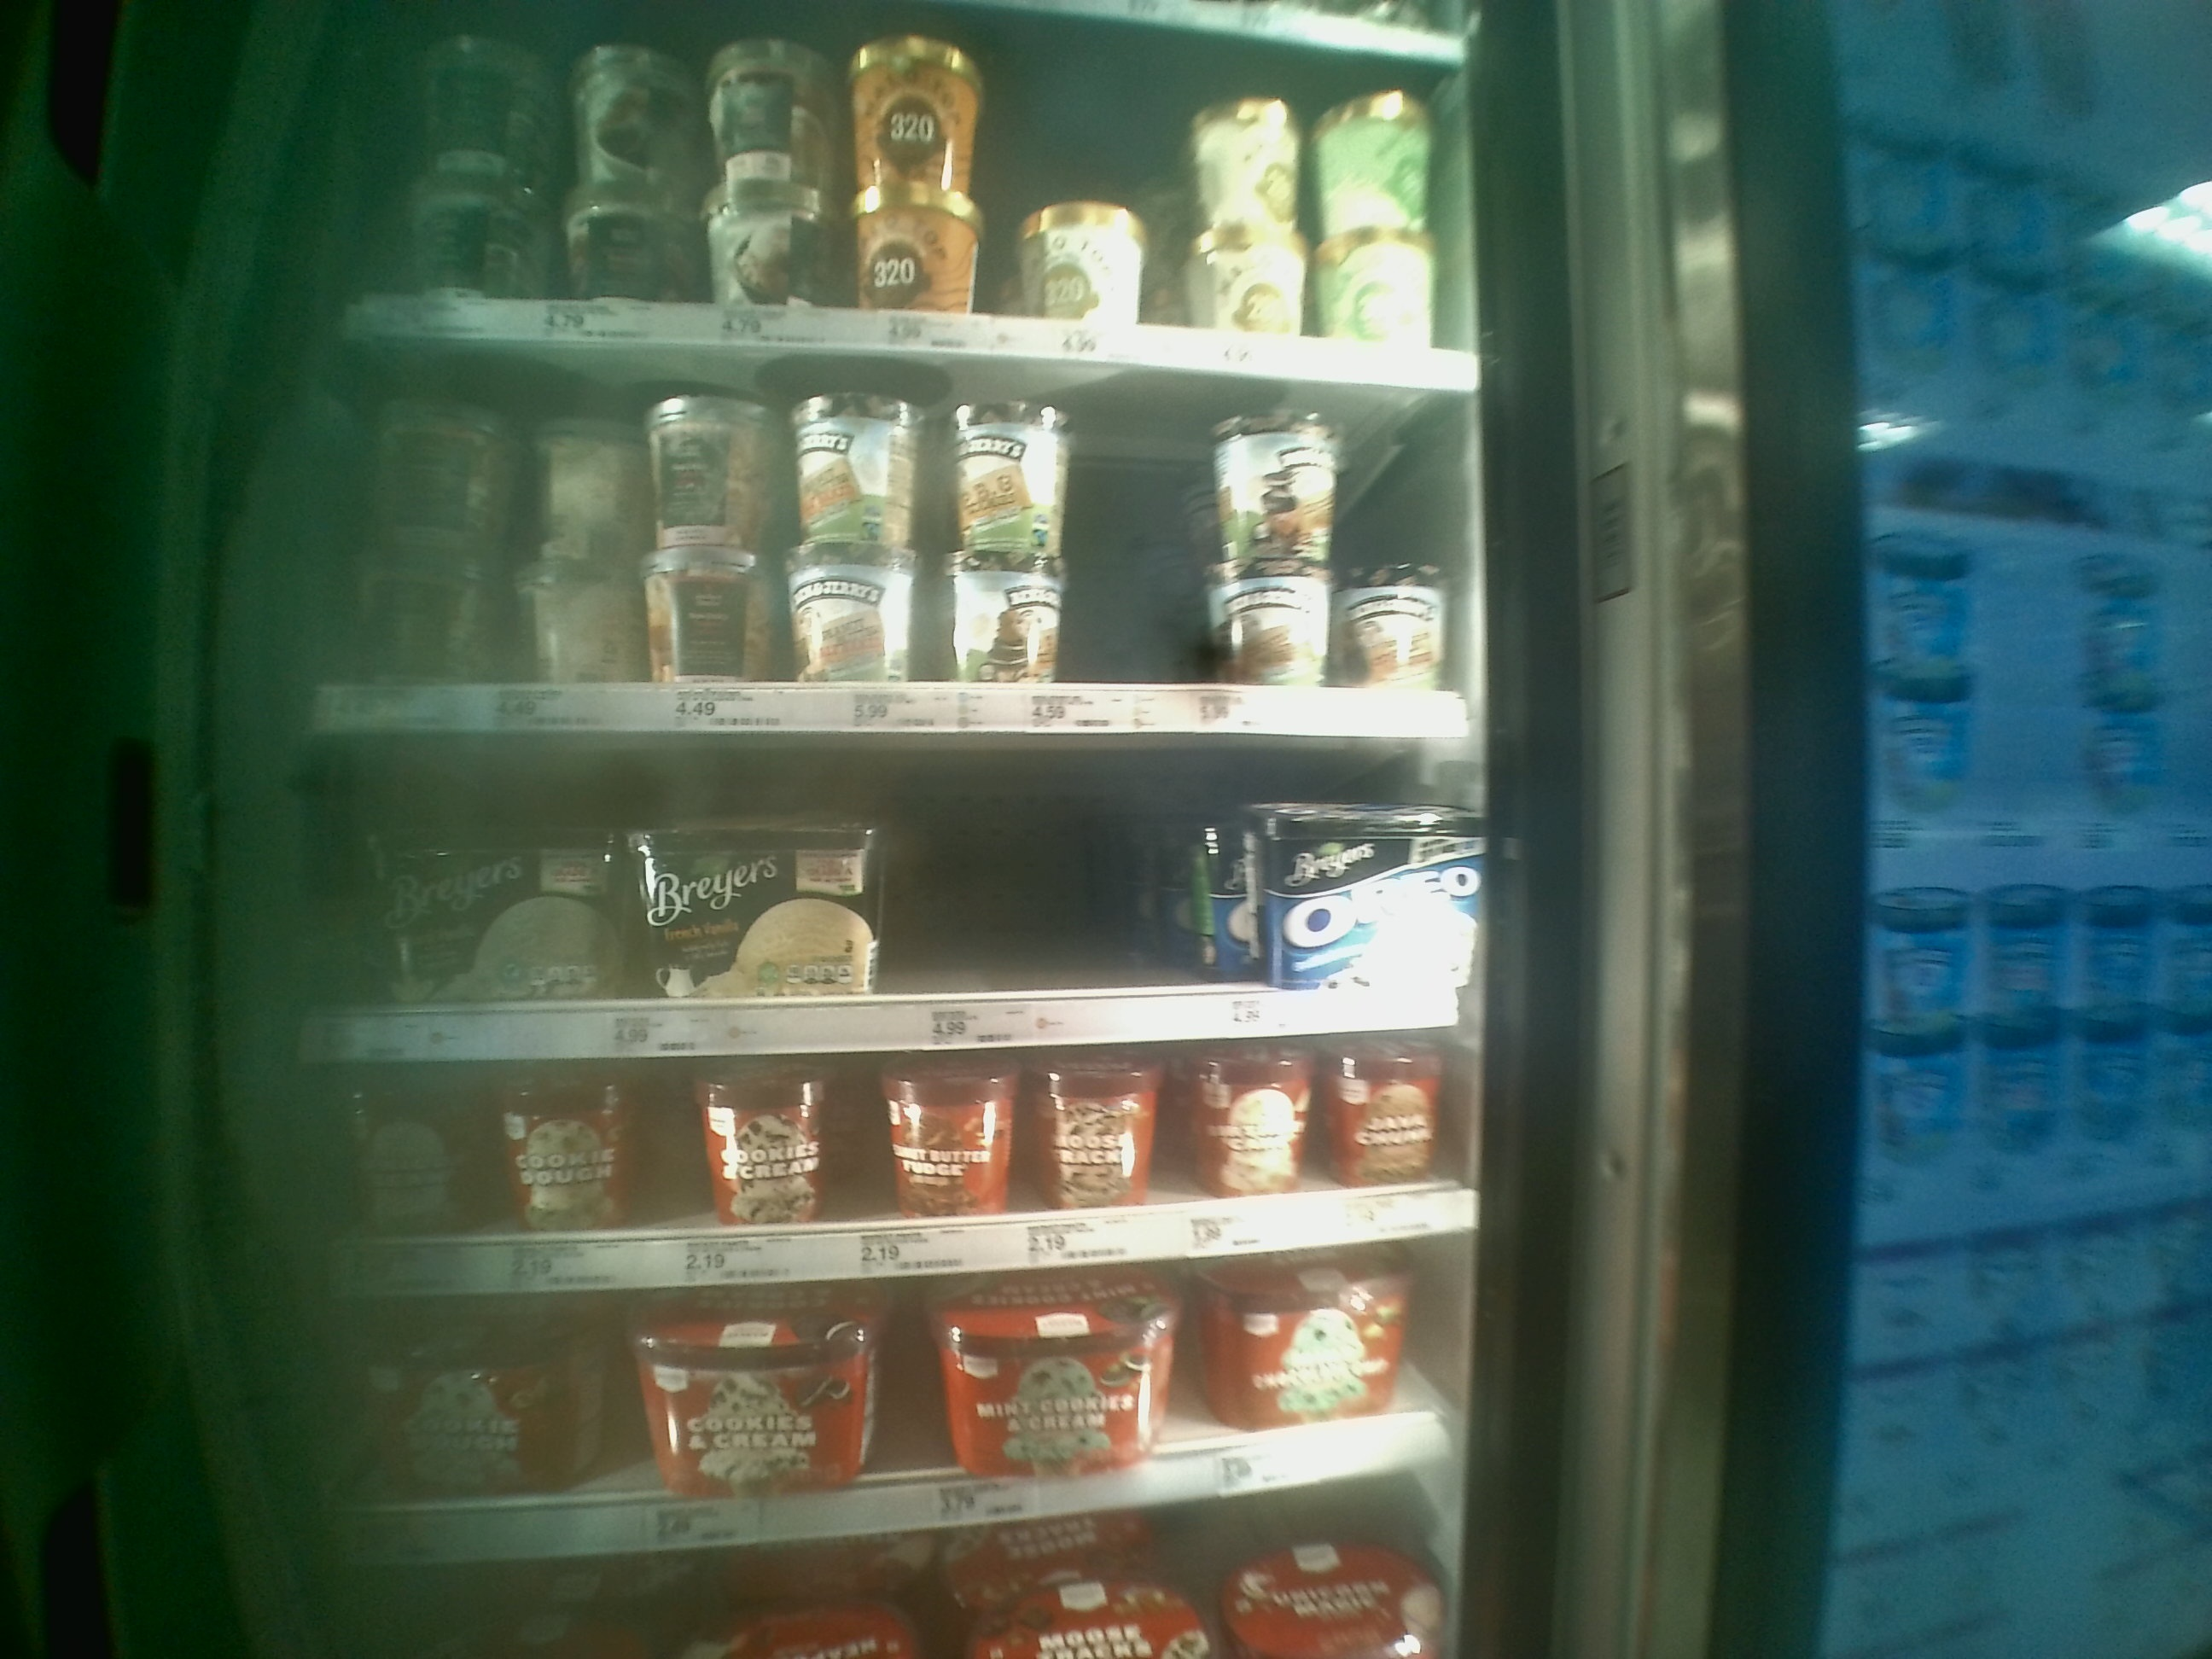shelf: (319, 362, 1479, 732), (314, 734, 1480, 1042), (354, 1291, 1463, 1567), (331, 1063, 1456, 1276)
